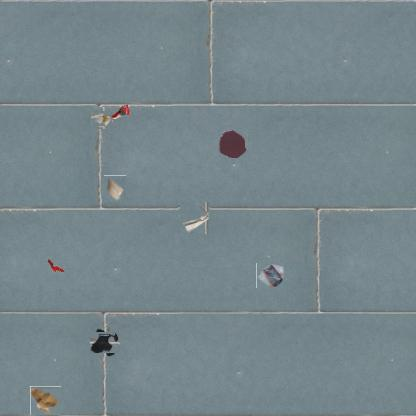dirty: (178, 203, 210, 234), (30, 386, 61, 415), (256, 262, 285, 288), (103, 177, 128, 201), (93, 109, 112, 128), (46, 256, 66, 274), (110, 103, 130, 119)
liquid: (218, 129, 248, 159), (92, 330, 118, 356)
